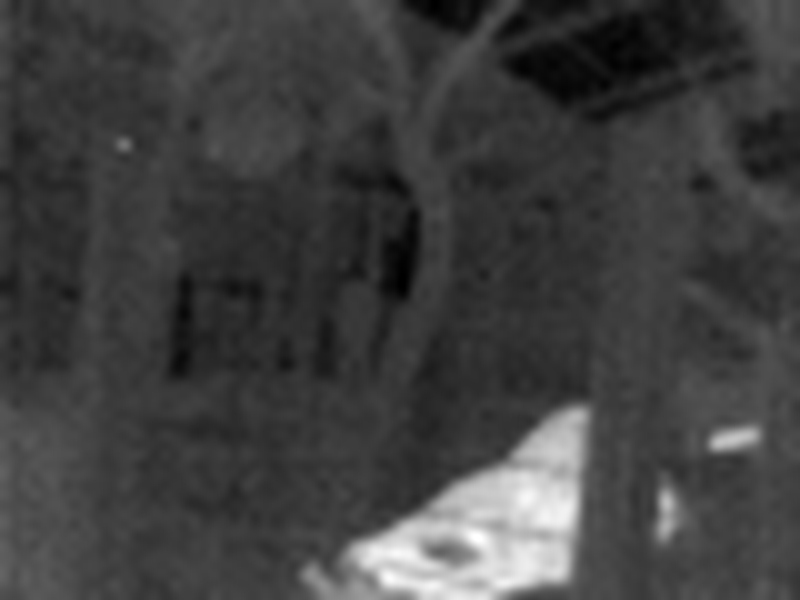elephant: (254, 414, 800, 600)
